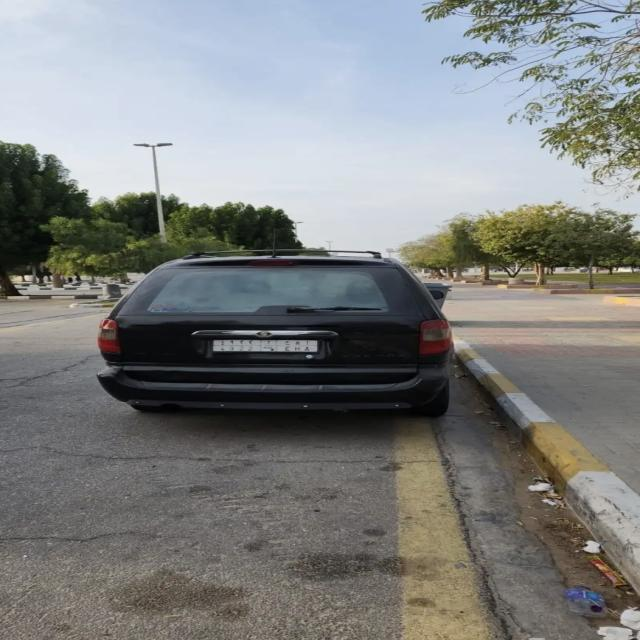license_plate: (212, 338, 320, 354)
